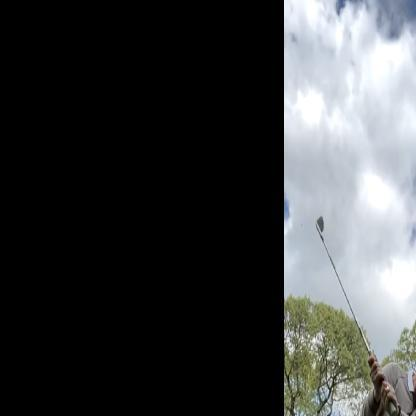GolfBall: (310, 210, 328, 247)
